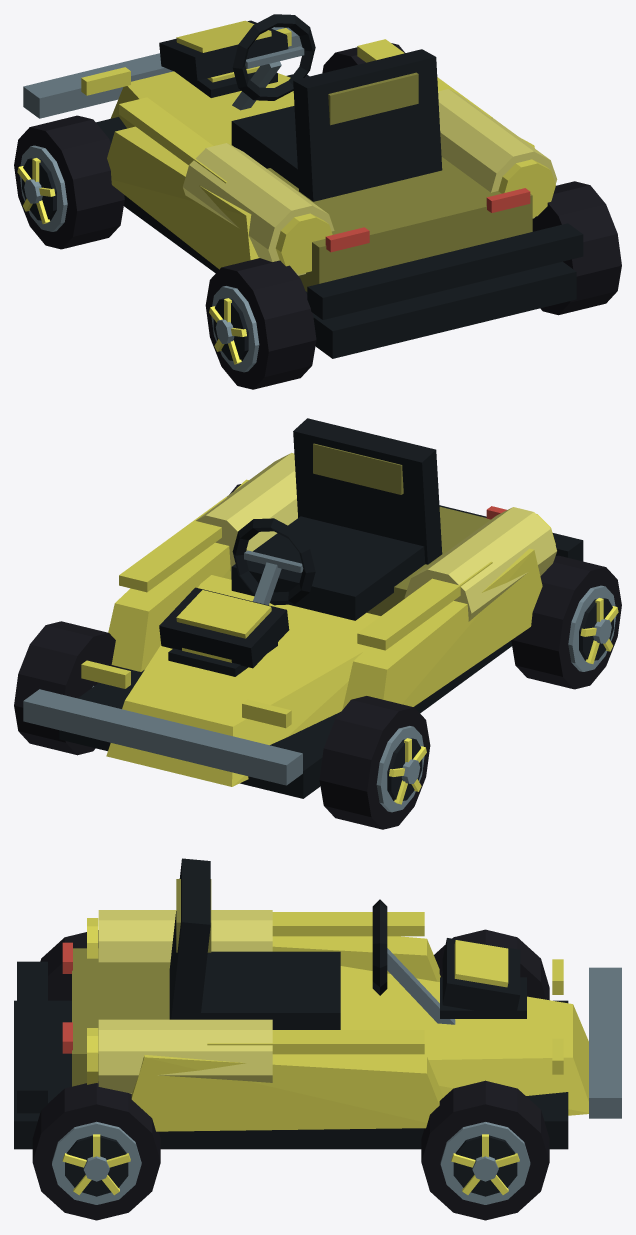
Rendered from kart.glb.
The picture shows the model from 3 angles, top to bottom: view 1: azimuth 30°, elevation 25°; view 2: azimuth 150°, elevation 25°; view 3: azimuth 270°, elevation 25°; orthographic projection.
Parts seen in each view (by area): view 1: chassis, wheel-rear-left, wheel-front-left, wheel-rear-right, wheel-front-right; view 2: chassis, wheel-front-left, wheel-rear-left, wheel-front-right; view 3: chassis, wheel-front-right, wheel-rear-right, wheel-front-left, wheel-rear-left.
Boxes of the visible parts, <box> form: chassis: <box>23,14,583,358</box>; wheel-rear-left: <box>205,258,316,389</box>; wheel-front-left: <box>14,115,124,249</box>; wheel-rear-right: <box>532,181,621,315</box>; wheel-front-right: <box>322,43,405,73</box>; chassis: <box>23,418,583,798</box>; wheel-front-left: <box>319,696,430,829</box>; wheel-rear-left: <box>511,555,621,689</box>; wheel-front-right: <box>14,621,119,755</box>; chassis: <box>14,858,621,1149</box>; wheel-front-right: <box>421,1080,549,1220</box>; wheel-rear-right: <box>32,1081,160,1220</box>; wheel-front-left: <box>434,929,549,1000</box>; wheel-rear-left: <box>40,930,98,1000</box>.
Size of the model in its own units: 2.17 by 1.3 by 2.94.
